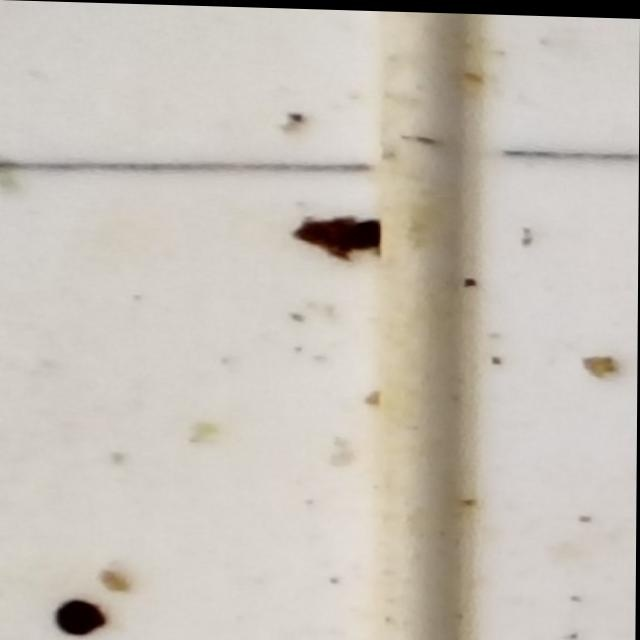varroa: (55, 597, 109, 638)
